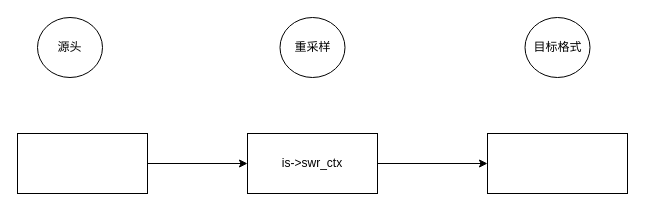
Image size: 645x211. Some labels were removed from this diagram. The shapes that lost their labels are listed below. From the top down, each one's box as (x1, y1, x2, y2) in pixels, then its label:
(16, 132, 148, 194): is->audio_src
(486, 132, 628, 194): is->audio_tgt
